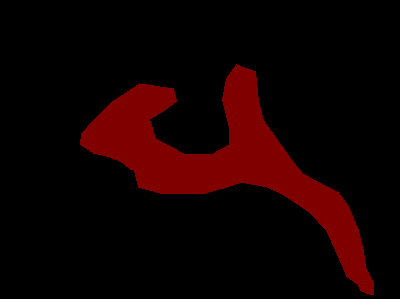fire: (80, 64, 373, 294)
